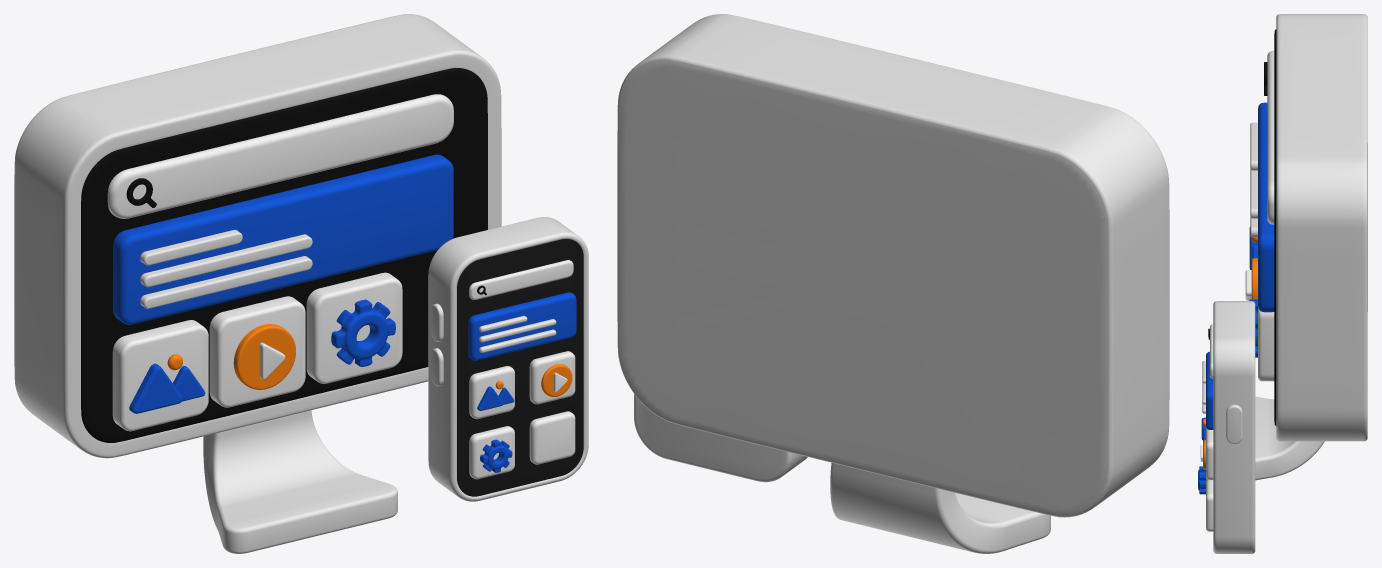
The model's file is mobile-monitor.glb.
3 views of the same model, side by side, from view 1: azimuth 30°, elevation 25°; view 2: azimuth 150°, elevation 25°; view 3: azimuth 270°, elevation 25° (orthographic). The views are drawn at different scales.
Visible parts, largest first — view 1: Monitor, Screen, Shape, Shape 3, Monitor Holder, Shape Search, Screen 2, Handphone.001, Line, Shape 2, Shape 5, Shape 4 (+7 smaller); view 2: Monitor, Monitor Holder, Handphone.001; view 3: Monitor, Handphone.001, Monitor Holder, Shape, Shape Search, Shape 3, Screen, Line, Key Button.001, Shape 2, Shape 5, Shape 4 (+1 smaller).
Part boxes in pixels (x1,y1,x2,y2): Monitor: (14, 14, 501, 458); Screen: (81, 68, 487, 442); Shape: (113, 154, 453, 324); Shape 3: (112, 272, 402, 431); Monitor Holder: (203, 410, 397, 553); Shape Search: (107, 94, 453, 218); Screen 2: (457, 238, 583, 496); Handphone.001: (428, 217, 588, 501); Line: (140, 229, 312, 308); Shape 2: (468, 292, 576, 360); Shape 5: (469, 411, 575, 479); Shape 4: (469, 351, 575, 419); Monitor: (617, 14, 1169, 517); Monitor Holder: (830, 463, 1050, 553); Handphone.001: (634, 394, 807, 482); Monitor: (1276, 14, 1367, 441); Handphone.001: (1213, 301, 1255, 553); Monitor Holder: (1255, 396, 1324, 480); Shape: (1258, 102, 1274, 312); Shape Search: (1267, 51, 1274, 224); Shape 3: (1258, 307, 1274, 381); Screen: (1274, 29, 1276, 425); Line: (1250, 122, 1257, 237); Key Button.001: (1226, 404, 1242, 444); Shape 2: (1206, 351, 1213, 429); Shape 5: (1206, 477, 1213, 531); Shape 4: (1206, 427, 1213, 479).
Bounding box in the file's own units: 2.62 × 2.15 × 0.9102.
